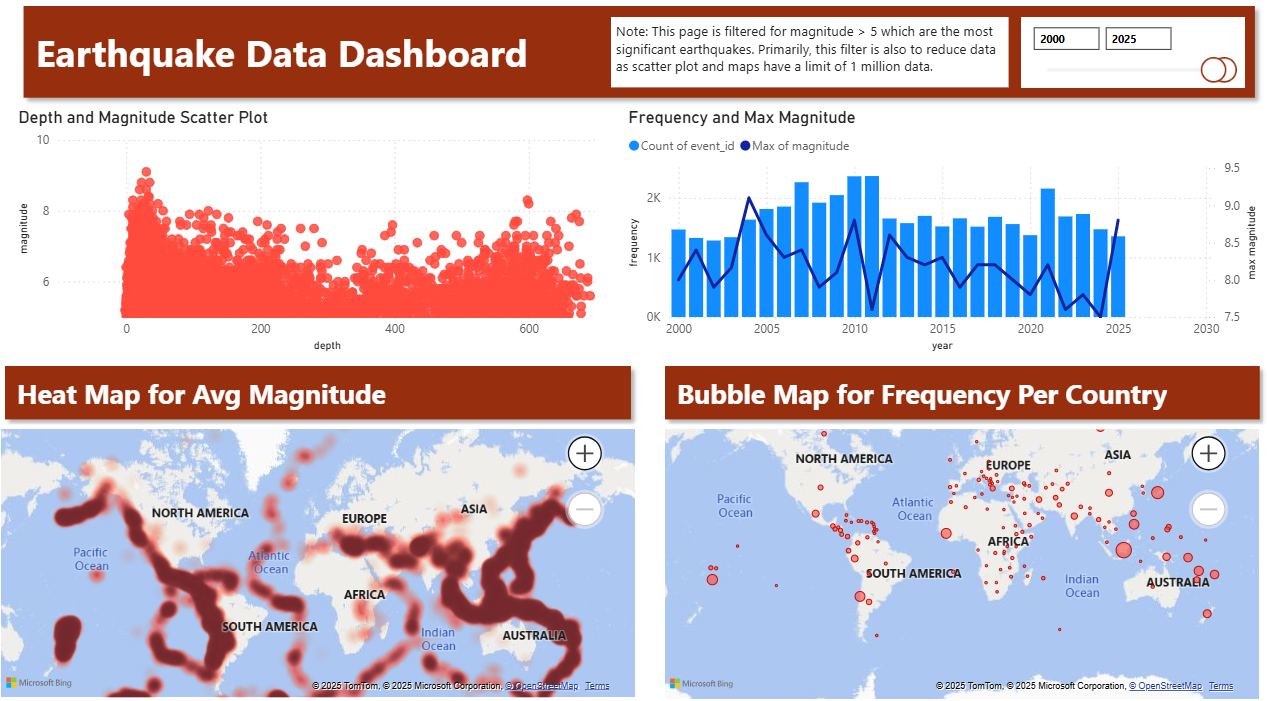

The page's visual inventory and layout, read from the dashboard file:
{"tool":"powerbi","page":{"name":"Page 2","canvas":[1280,720],"ordinal":1},"visuals":[{"type":"shape","box":[0,0,1280,109.5],"z":0},{"type":"slicer","fields":{"Values":["fact_earthquake_data.event_year"]},"box":[738.9,19.9,269.9,69.7],"z":1000},{"type":"scatterChart","title":"Depth and Magnitude Scatter Plot","fields":{"X":["fact_earthquake_data.depth"],"Y":["fact_earthquake_data.magnitude"]},"box":[17.5,110,597.5,250],"z":2000},{"type":"shape","box":[0,360,643.8,71.2],"z":3000},{"type":"shape","box":[660,360,612.5,71.2],"z":4000},{"type":"map","fields":{"Y":["fact_earthquake_data.latitude"],"X":["fact_earthquake_data.longitude"],"Size":["Avg(fact_earthquake_data.magnitude)"]},"box":[0,427.5,643.8,277.5],"z":5000},{"type":"map","fields":{"Size":["CountNonNull(fact_earthquake_data.event_id)"],"Category":["fact_earthquake_data.country"]},"box":[663.8,427.5,603.8,278.8],"z":6000},{"type":"lineStackedColumnComboChart","title":"Frequency and Max Magnitude","fields":{"Category":["fact_earthquake_data.event_year"],"Y":["CountNonNull(fact_earthquake_data.event_id)"],"Y2":["Max(fact_earthquake_data.magnitude)"]},"box":[627.5,110,640,250],"z":7000},{"type":"textbox","box":[906.8,668,373.2,52.2],"z":8000},{"type":"slicer","fields":{"Values":["fact_earthquake_data.severity"]},"box":[1027.5,19.9,195.3,69.7],"z":8001}]}

Visuals, with their boxes in screenshot pixels (x1, y1, x2, y2), scaled from the page's 1280x720 canvas onto the 1267x701 screenshot:
shape: BBox(0, 0, 1266, 107)
slicer - fact_earthquake_data.event_year: BBox(731, 19, 999, 87)
"Depth and Magnitude Scatter Plot" scatterChart: BBox(17, 107, 609, 350)
shape: BBox(0, 350, 637, 420)
shape: BBox(653, 350, 1260, 420)
map - fact_earthquake_data.latitude x fact_earthquake_data.longitude: BBox(0, 416, 637, 686)
map - CountNonNull(fact_earthquake_data.event_id) x fact_earthquake_data.country: BBox(657, 416, 1255, 688)
"Frequency and Max Magnitude" lineStackedColumnComboChart: BBox(621, 107, 1255, 350)
textbox: BBox(898, 650, 1266, 700)
slicer - fact_earthquake_data.severity: BBox(1017, 19, 1210, 87)
